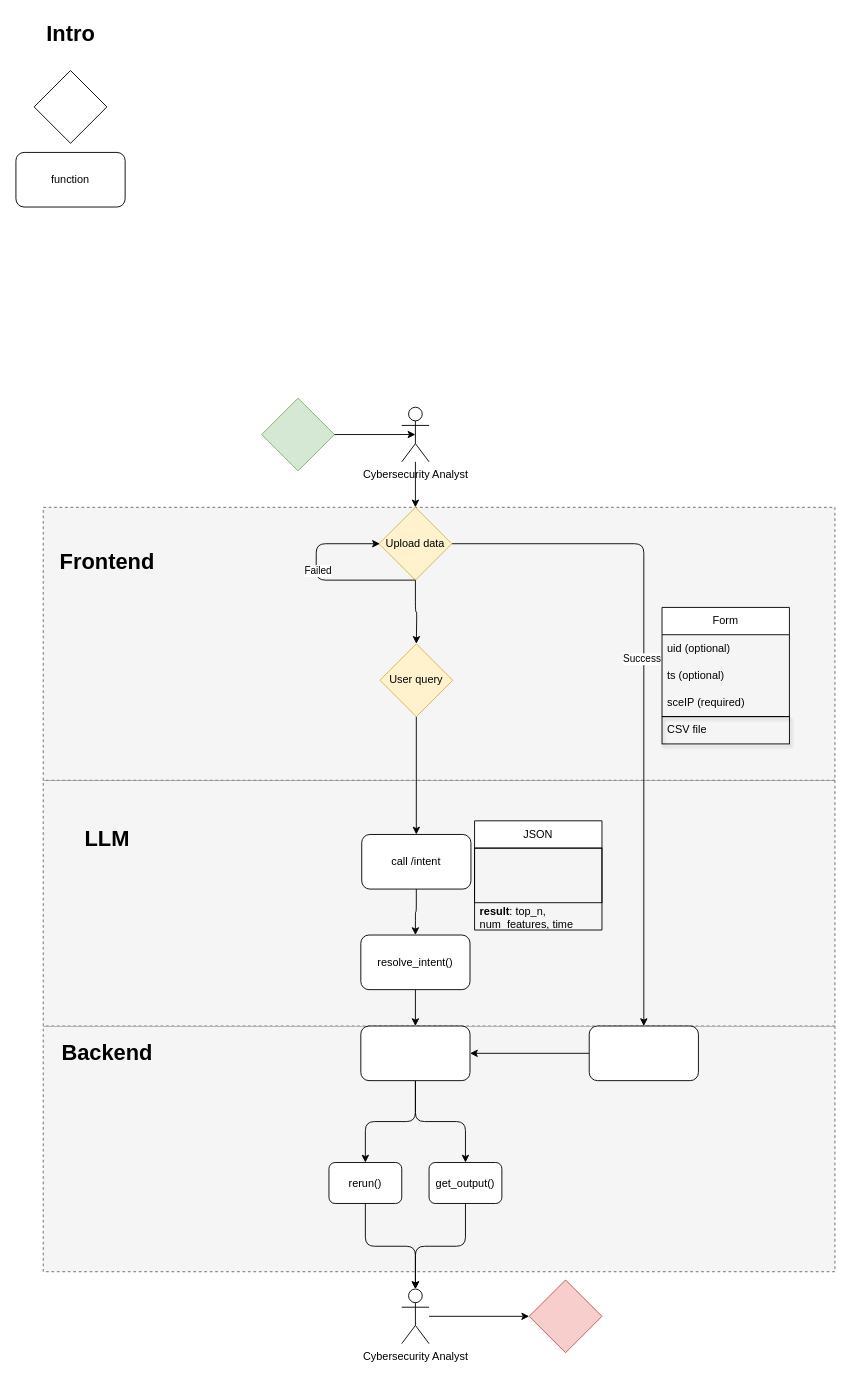
Image size: 851x1378. Some labels were removed from this diagram. Here are the shapes that lost their labels. From the top down, the centre of each, then its label:
At point (70, 106): "action".
At point (297, 434): "Start".
At point (538, 875): "action : find_anomalies,get_output, rerun".
At point (415, 1053): "find_anomalies()".
At point (643, 1053): "/add_data()".
At point (565, 1316): "End".
